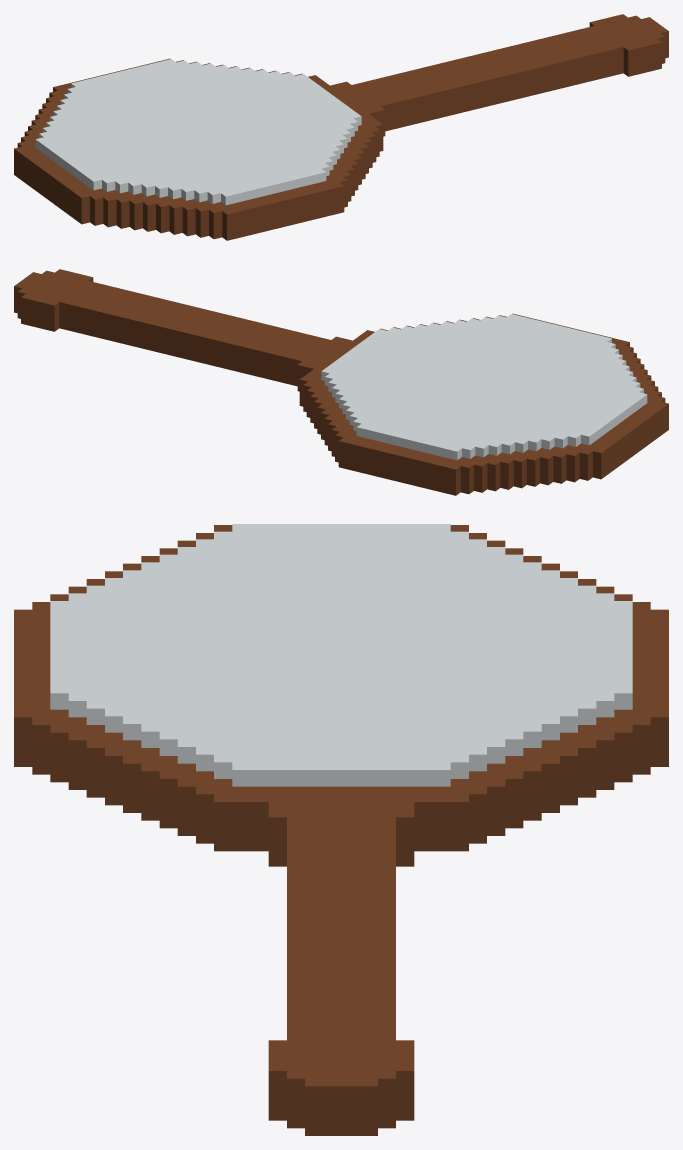
Rendered from mirror.glb.
3 views of the same model, one above another, from view 1: azimuth 30°, elevation 25°; view 2: azimuth 150°, elevation 25°; view 3: azimuth 270°, elevation 25° (orthographic). The views are drawn at different scales.
Parts seen in each view (by area): view 1: mirror:compound; view 2: mirror:compound; view 3: mirror:compound.
Part boxes in pixels (x1,y1,x2,y2): mirror:compound: (14,14,668,240); mirror:compound: (14,269,668,495); mirror:compound: (14,524,668,1135).
Bounding box in the file's own units: 0.292 × 0.016 × 0.144.
